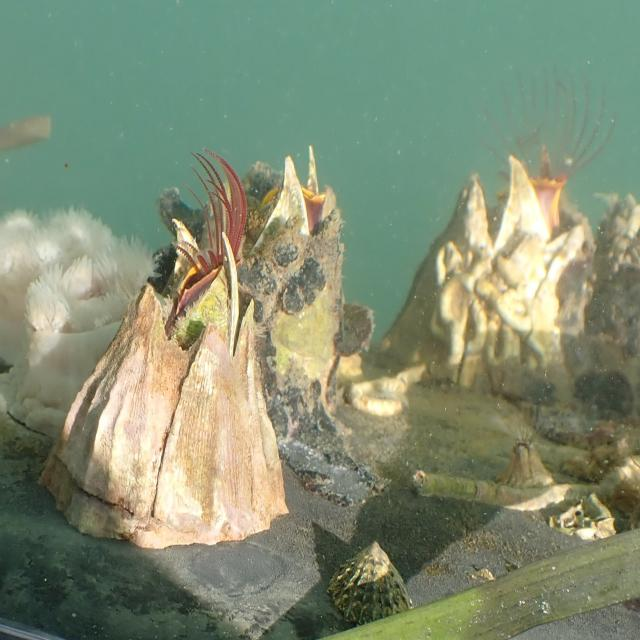barnacles: (46, 183, 285, 561), (400, 129, 594, 404), (237, 125, 371, 436)
